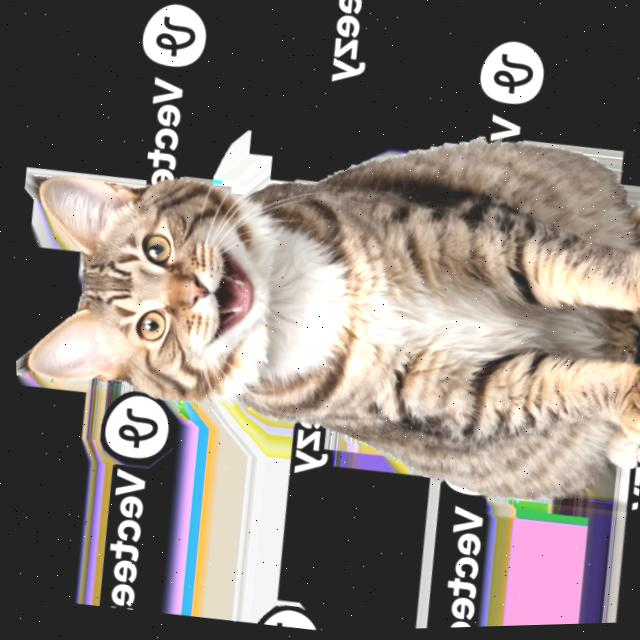American Bobtail: (3, 75, 640, 533)
